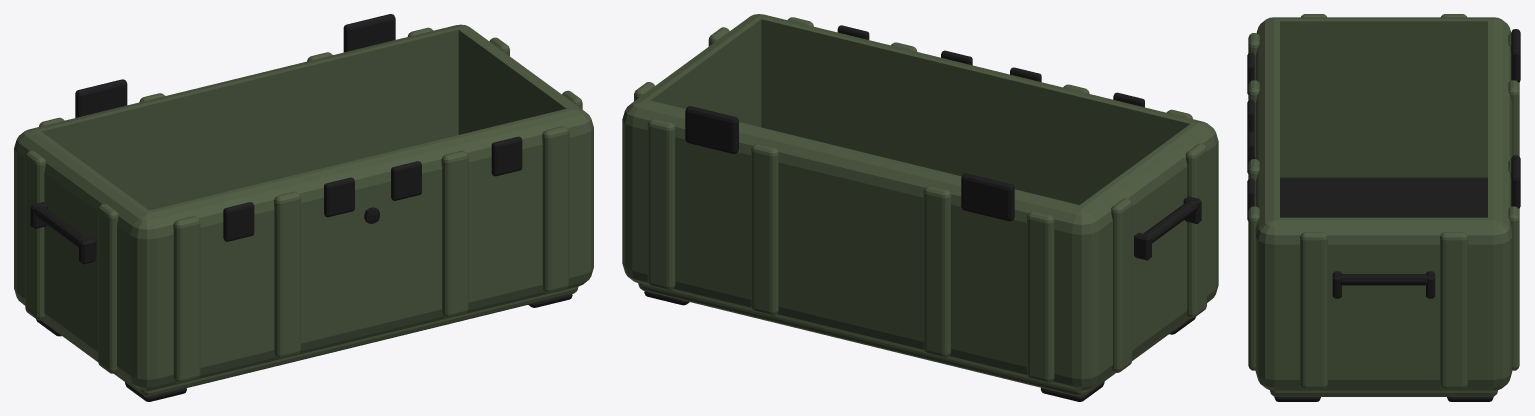
Rendered from SRZ_TransportCase_Green_Body.fbx.
3 views of the same model, side by side, from view 1: azimuth 30°, elevation 25°; view 2: azimuth 150°, elevation 25°; view 3: azimuth 270°, elevation 25° (orthographic). The views are drawn at different scales.
Visible parts, largest first — view 1: TransportCase_Green_Body; view 2: TransportCase_Green_Body; view 3: TransportCase_Green_Body.
Part boxes in pixels (x1=…): TransportCase_Green_Body: x1=14, y1=14, x2=593, y2=401; TransportCase_Green_Body: x1=622, y1=14, x2=1218, y2=401; TransportCase_Green_Body: x1=1247, y1=14, x2=1520, y2=401.
Size of what is drawn, in the model's own units: 118 by 47.5 by 58.6.
